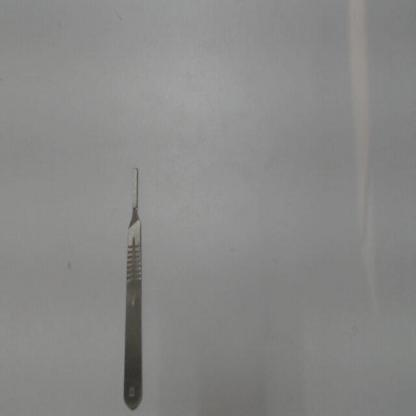No.4 BP Handle: (120, 164, 148, 414)
